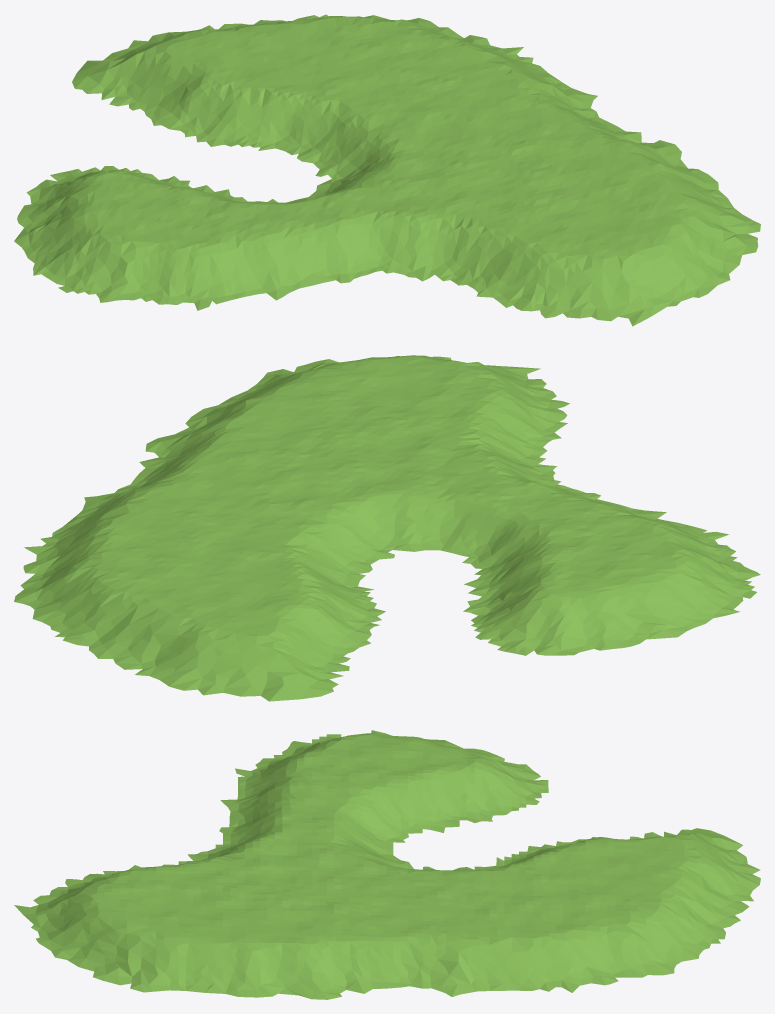
The model's file is MT_Island_H_a_03.fbx.
3 views of the same model, one above another, from view 1: azimuth 30°, elevation 25°; view 2: azimuth 150°, elevation 25°; view 3: azimuth 270°, elevation 25° (orthographic). The views are drawn at different scales.
Visible parts, largest first — view 1: MT_Island_H_a_03; view 2: MT_Island_H_a_03; view 3: MT_Island_H_a_03.
Boxes of the visible parts, x1=… form: MT_Island_H_a_03: x1=14, y1=14, x2=760, y2=326; MT_Island_H_a_03: x1=14, y1=355, x2=760, y2=701; MT_Island_H_a_03: x1=14, y1=730, x2=760, y2=999.
Size of the model in its own units: 33864 by 1669 by 39760.
